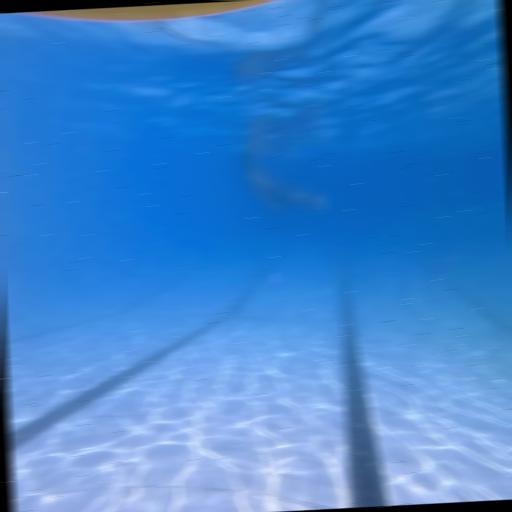upper_gate: (12, 0, 300, 27)
